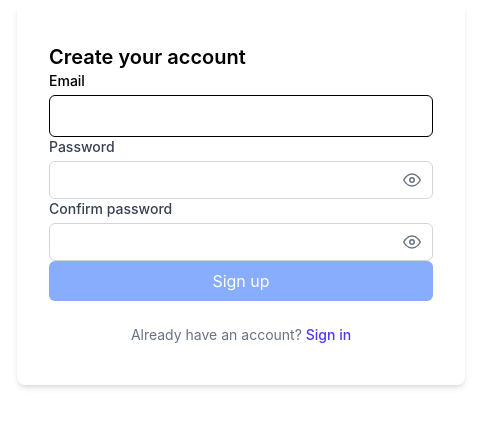
Test: RegistrationForm › AC-5: a duplicate-email rejection renders a field-level error on email
Type "new@example.com" into the field labelled "Email" at (241, 116), box [49,95,433,137]
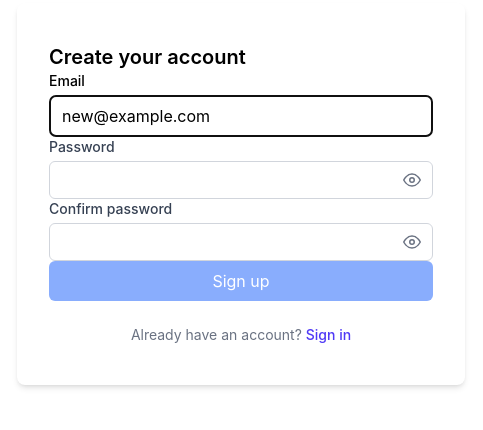
Type "hunter2hunter2" into the password field labelled "Password" at (241, 180), box [49,161,433,199]
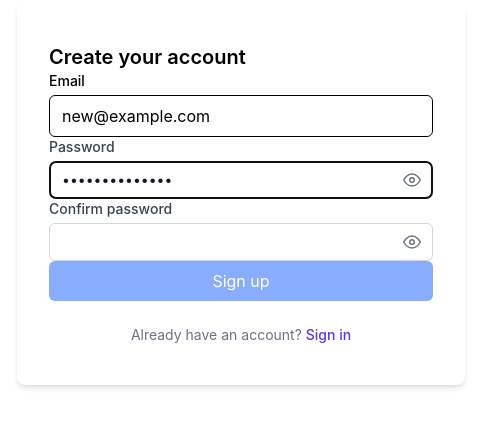
Type "hunter2hunter2" into the password field labelled "Confirm password" at (241, 242), box [49,223,433,261]
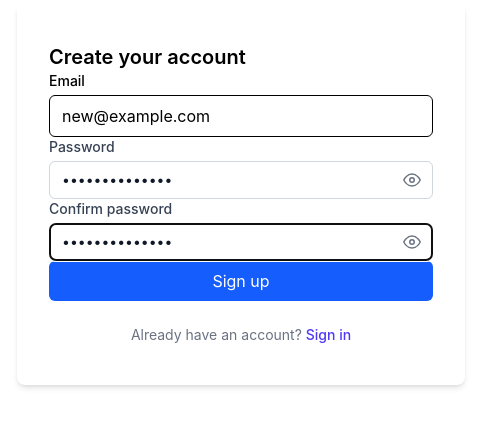
Click the button "Sign up" at (241, 281), box [49,261,433,301]
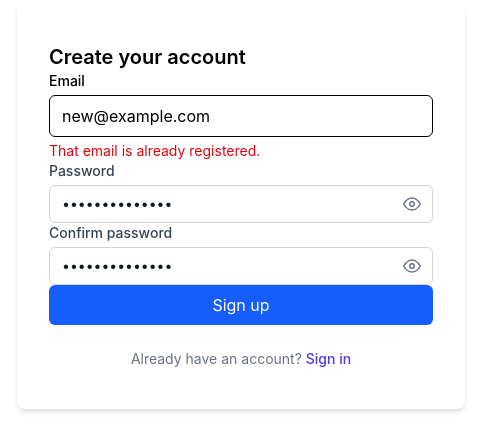
expect the text "That email is already registered." is shown: met, box [49,142,260,159]
